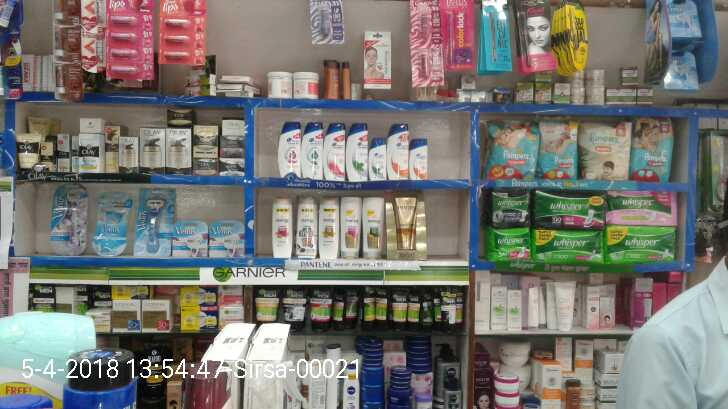venus: (133, 187, 174, 256), (50, 183, 89, 254), (93, 192, 130, 257), (662, 50, 699, 90), (664, 1, 702, 37), (210, 220, 245, 258), (175, 220, 210, 257)
